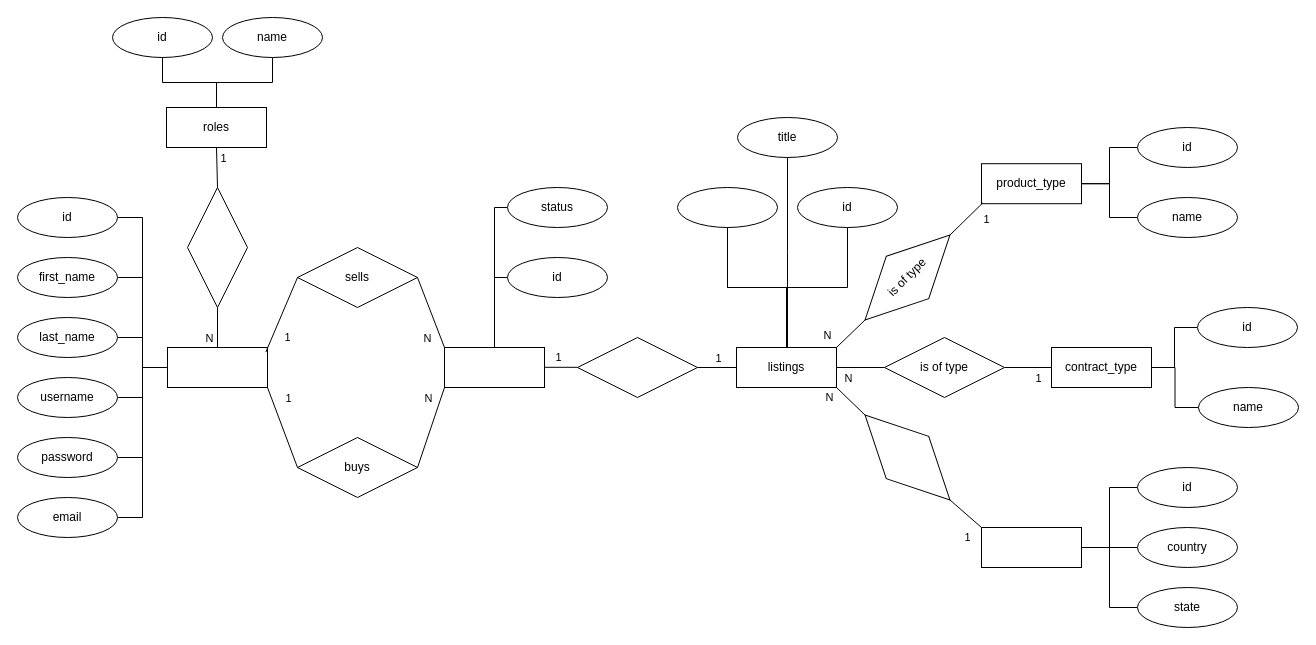
The diagram is 1316 pixels wide and 645 high, and some of its shapes have lost their labels. Here are the shapes that lost their labels. From the top down, the centre of each, then its label:
[727,207]: price
[217,247]: has
[217,367]: users
[494,367]: order
[637,367]: contains
[907,457]: is located in
[1031,547]: location
